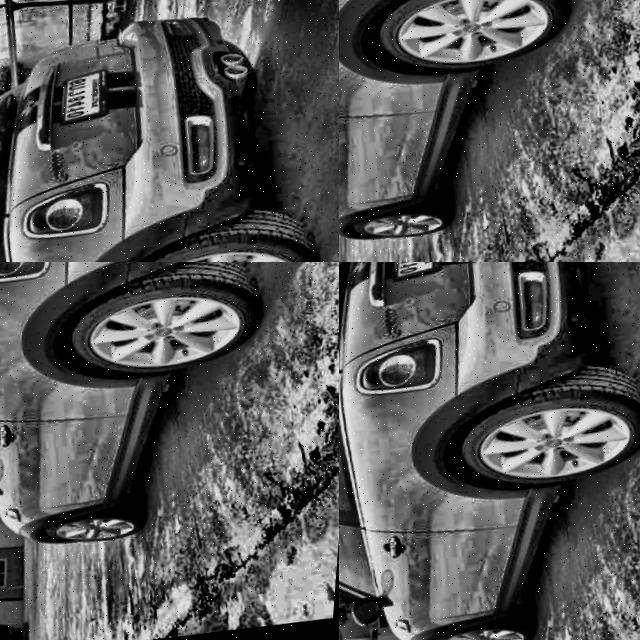license-plate: (388, 262, 447, 279)
